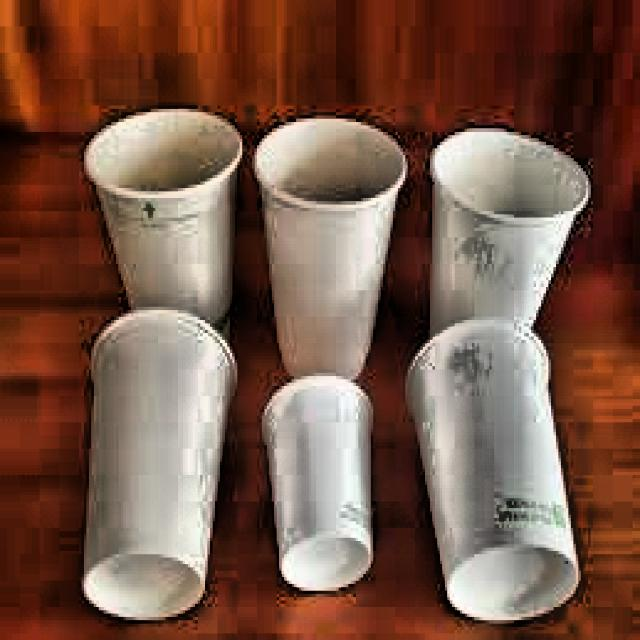Cup: (405, 314, 591, 630), (425, 112, 595, 396), (83, 314, 242, 616), (88, 109, 250, 378), (253, 106, 406, 387), (255, 368, 386, 604)
